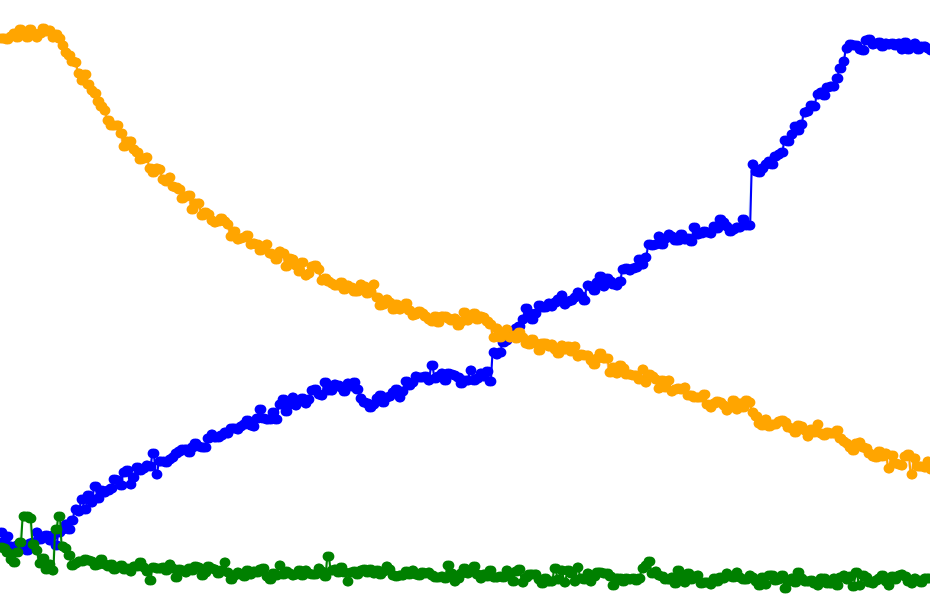CO2 Problem: (311, 0, 738, 616), (738, 0, 930, 616), (155, 0, 311, 616), (38, 0, 155, 616)
Condensation (CO2): (38, 0, 311, 616), (349, 0, 583, 616), (738, 0, 930, 616), (777, 0, 930, 616), (194, 0, 311, 616), (505, 0, 622, 616), (622, 0, 738, 616), (77, 0, 155, 616), (427, 0, 505, 616), (311, 0, 388, 616), (661, 0, 738, 616), (855, 0, 930, 616)
Condensation (O2): (777, 0, 930, 616), (622, 0, 738, 616), (311, 0, 388, 616)
High CO2: (311, 0, 505, 616), (777, 0, 930, 616), (622, 0, 738, 616), (777, 0, 855, 616), (661, 0, 738, 616), (738, 0, 777, 616)
High O2: (38, 0, 311, 616), (311, 0, 505, 616), (155, 0, 311, 616), (777, 0, 930, 616), (38, 0, 155, 616)
Low CO2: (311, 0, 738, 616), (311, 0, 622, 616), (311, 0, 505, 616), (738, 0, 930, 616), (155, 0, 311, 616), (777, 0, 930, 616), (38, 0, 155, 616), (505, 0, 622, 616), (622, 0, 738, 616), (427, 0, 505, 616), (661, 0, 738, 616)
Low O2: (311, 0, 622, 616), (155, 0, 311, 616), (777, 0, 930, 616), (38, 0, 155, 616), (388, 0, 505, 616), (505, 0, 622, 616), (311, 0, 388, 616), (661, 0, 738, 616)
Normal: (0, 0, 930, 616), (311, 0, 738, 616), (311, 0, 622, 616), (349, 0, 622, 616), (311, 0, 583, 616), (388, 0, 622, 616), (505, 0, 738, 616), (427, 0, 622, 616), (311, 0, 505, 616), (738, 0, 930, 616), (155, 0, 311, 616), (777, 0, 930, 616), (38, 0, 155, 616), (155, 0, 272, 616), (194, 0, 311, 616), (388, 0, 505, 616), (505, 0, 622, 616), (622, 0, 738, 616), (38, 0, 116, 616), (77, 0, 155, 616), (427, 0, 505, 616), (777, 0, 855, 616), (661, 0, 738, 616), (855, 0, 930, 616), (738, 0, 777, 616), (0, 0, 38, 616)
O2 Problem: (311, 0, 738, 616), (311, 0, 622, 616), (738, 0, 930, 616), (155, 0, 311, 616), (777, 0, 930, 616), (194, 0, 311, 616), (388, 0, 505, 616), (505, 0, 622, 616), (622, 0, 738, 616), (661, 0, 738, 616)
